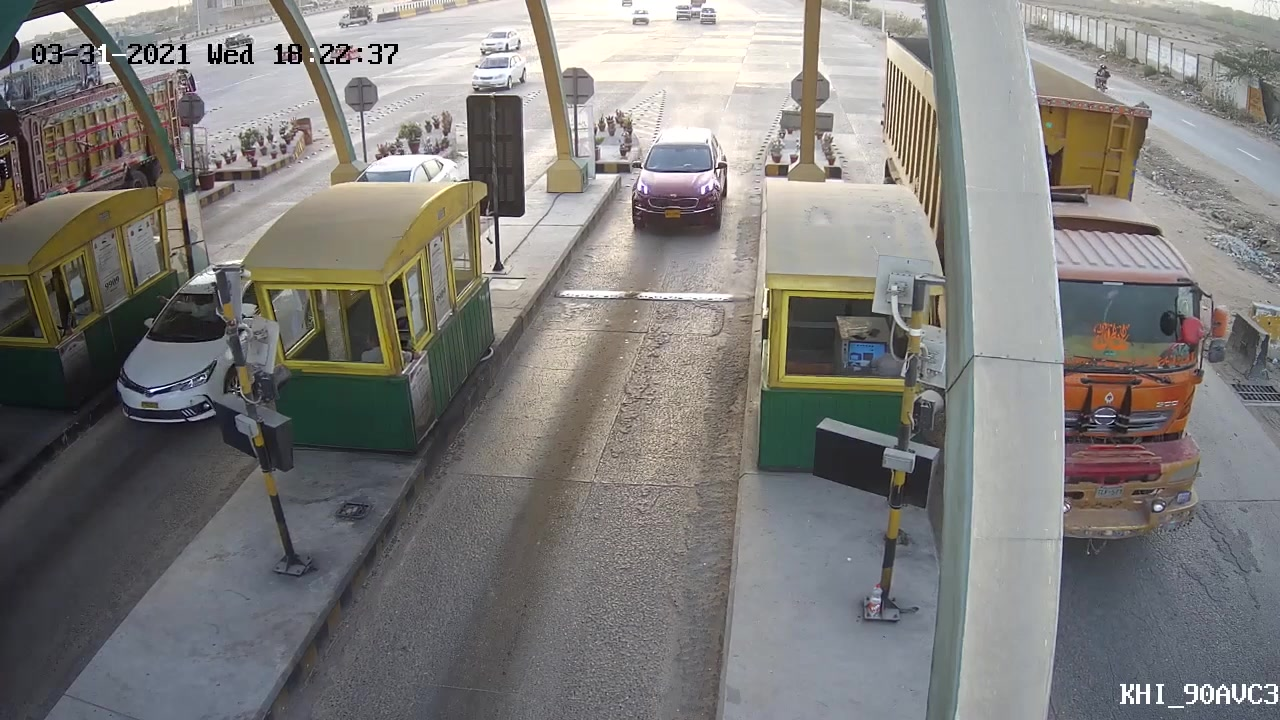F1: (619, 127, 740, 232)
